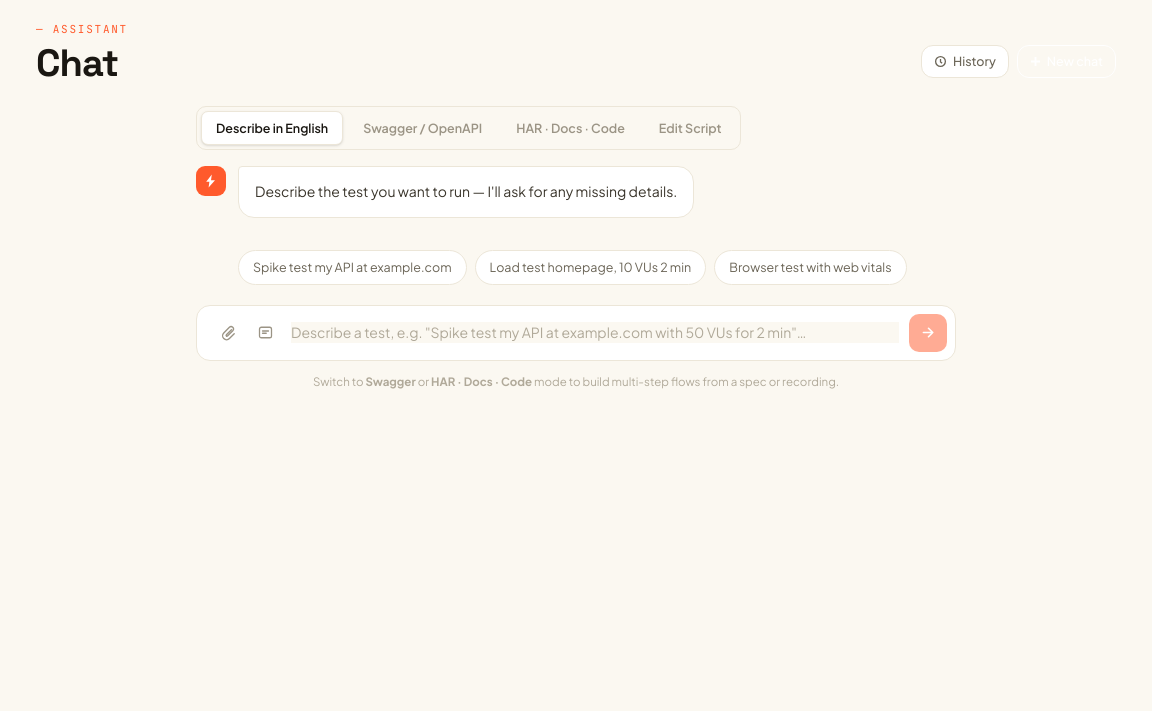
Test case: ChatPage › renders a flowReady card with step list and action buttons
Replace the text in the field with placeholder "Describe a test" with "create a flow: register then login then logout, 2 VUs 5 min": (595,333) [291,322,899,343]
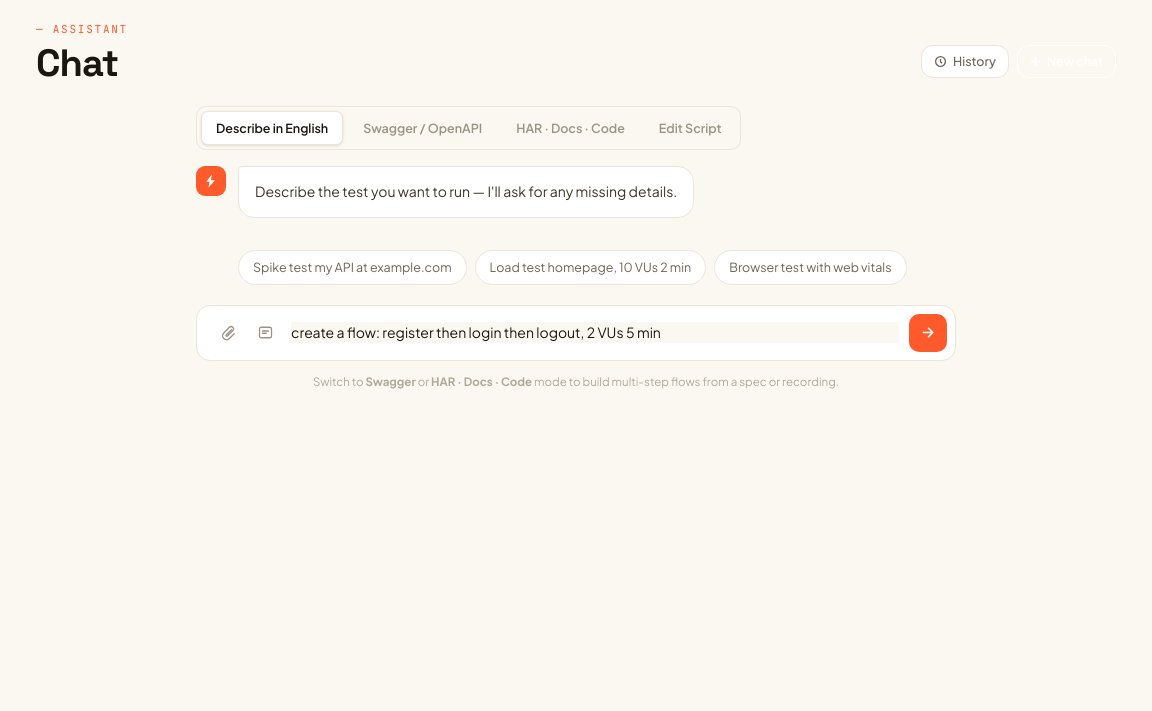
Click the button named "send": (928,333) [909,314,947,352]
(page scrolled)
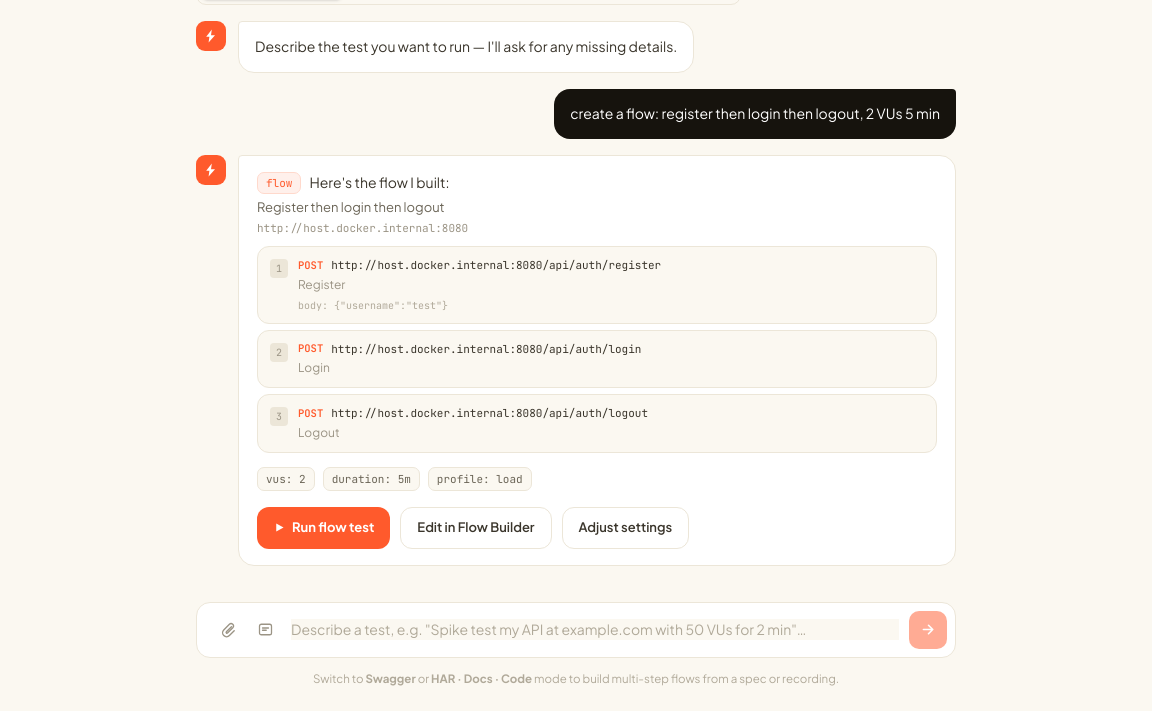
Expected: the text "Register" is shown, [298,277,345,292]
Expected: the text "Login" is shown, [298,360,330,375]
Expected: the text "Logout" is shown, [298,425,340,440]
